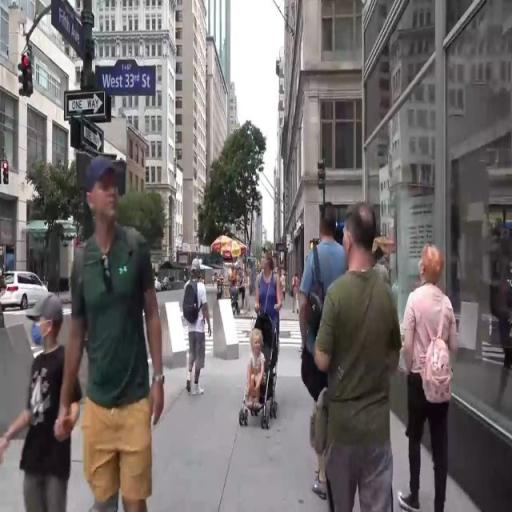person: (61, 166, 184, 512), (332, 212, 411, 512), (400, 239, 465, 512), (13, 289, 72, 512), (301, 197, 331, 419), (179, 245, 218, 401), (257, 248, 280, 337), (245, 331, 267, 410), (292, 274, 307, 339), (243, 267, 256, 326), (229, 264, 238, 302), (281, 270, 289, 300)
